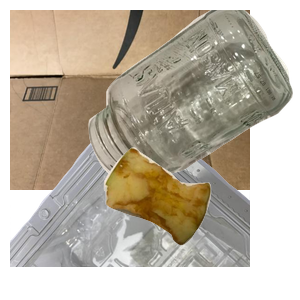cardboard: (10, 10, 250, 190)
glass: (86, 10, 300, 184)
plastic: (10, 120, 250, 300)
trash: (101, 145, 300, 300)
